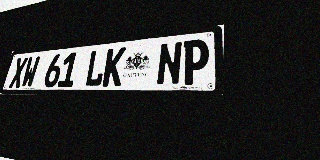1: (57, 52, 79, 87)
6: (43, 53, 64, 87)
K: (102, 47, 126, 86)
L: (84, 49, 107, 87)
N: (156, 41, 183, 86)
P: (181, 38, 209, 85)
W: (20, 56, 41, 88)
X: (9, 57, 28, 88)
